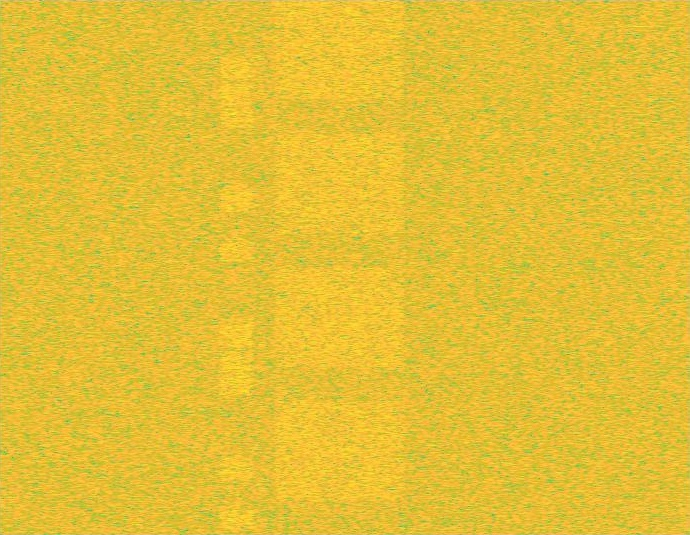5G: (271, 0, 409, 534)
LTE: (220, 0, 254, 534)
Radar: (633, 0, 647, 534)
